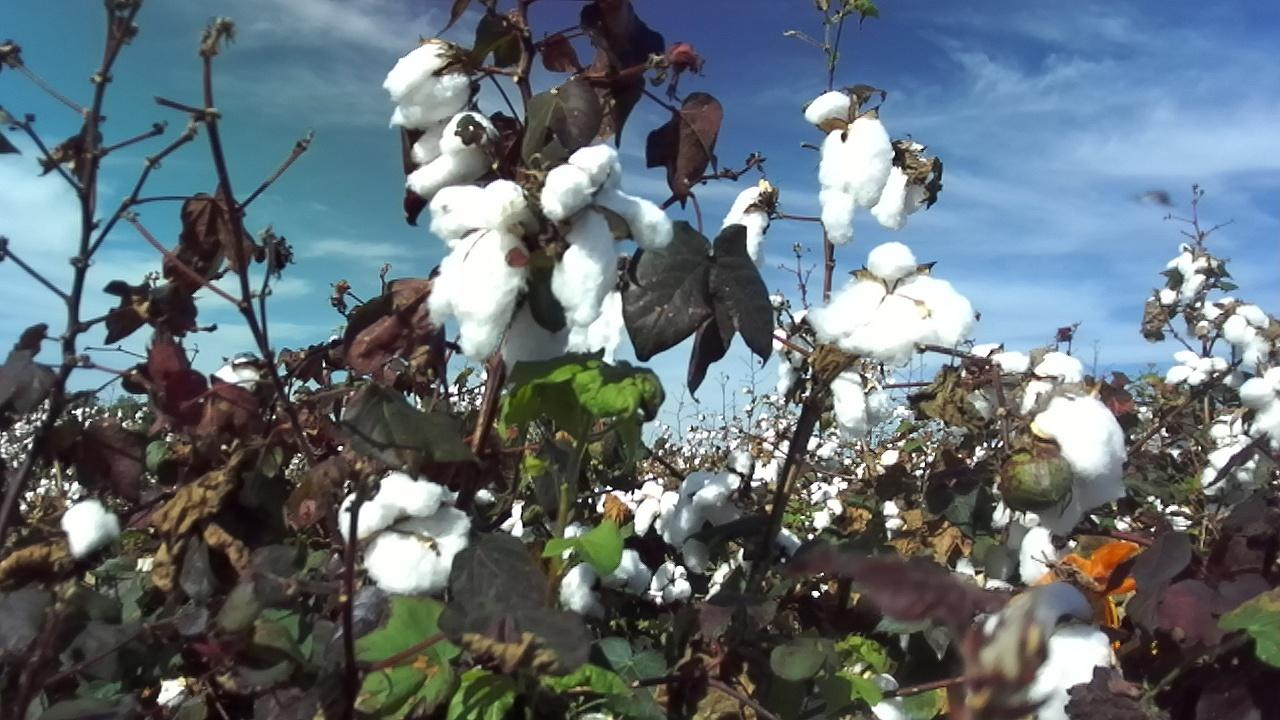cotton_ready: (540, 144, 674, 327), (811, 243, 977, 363), (430, 181, 529, 361), (339, 469, 473, 592), (806, 91, 909, 245), (1033, 395, 1128, 509), (1019, 619, 1118, 720), (404, 113, 496, 198), (387, 41, 468, 130), (656, 472, 742, 545), (721, 182, 774, 264), (833, 372, 895, 434), (1240, 365, 1280, 458), (59, 499, 118, 557), (1019, 529, 1073, 588)
